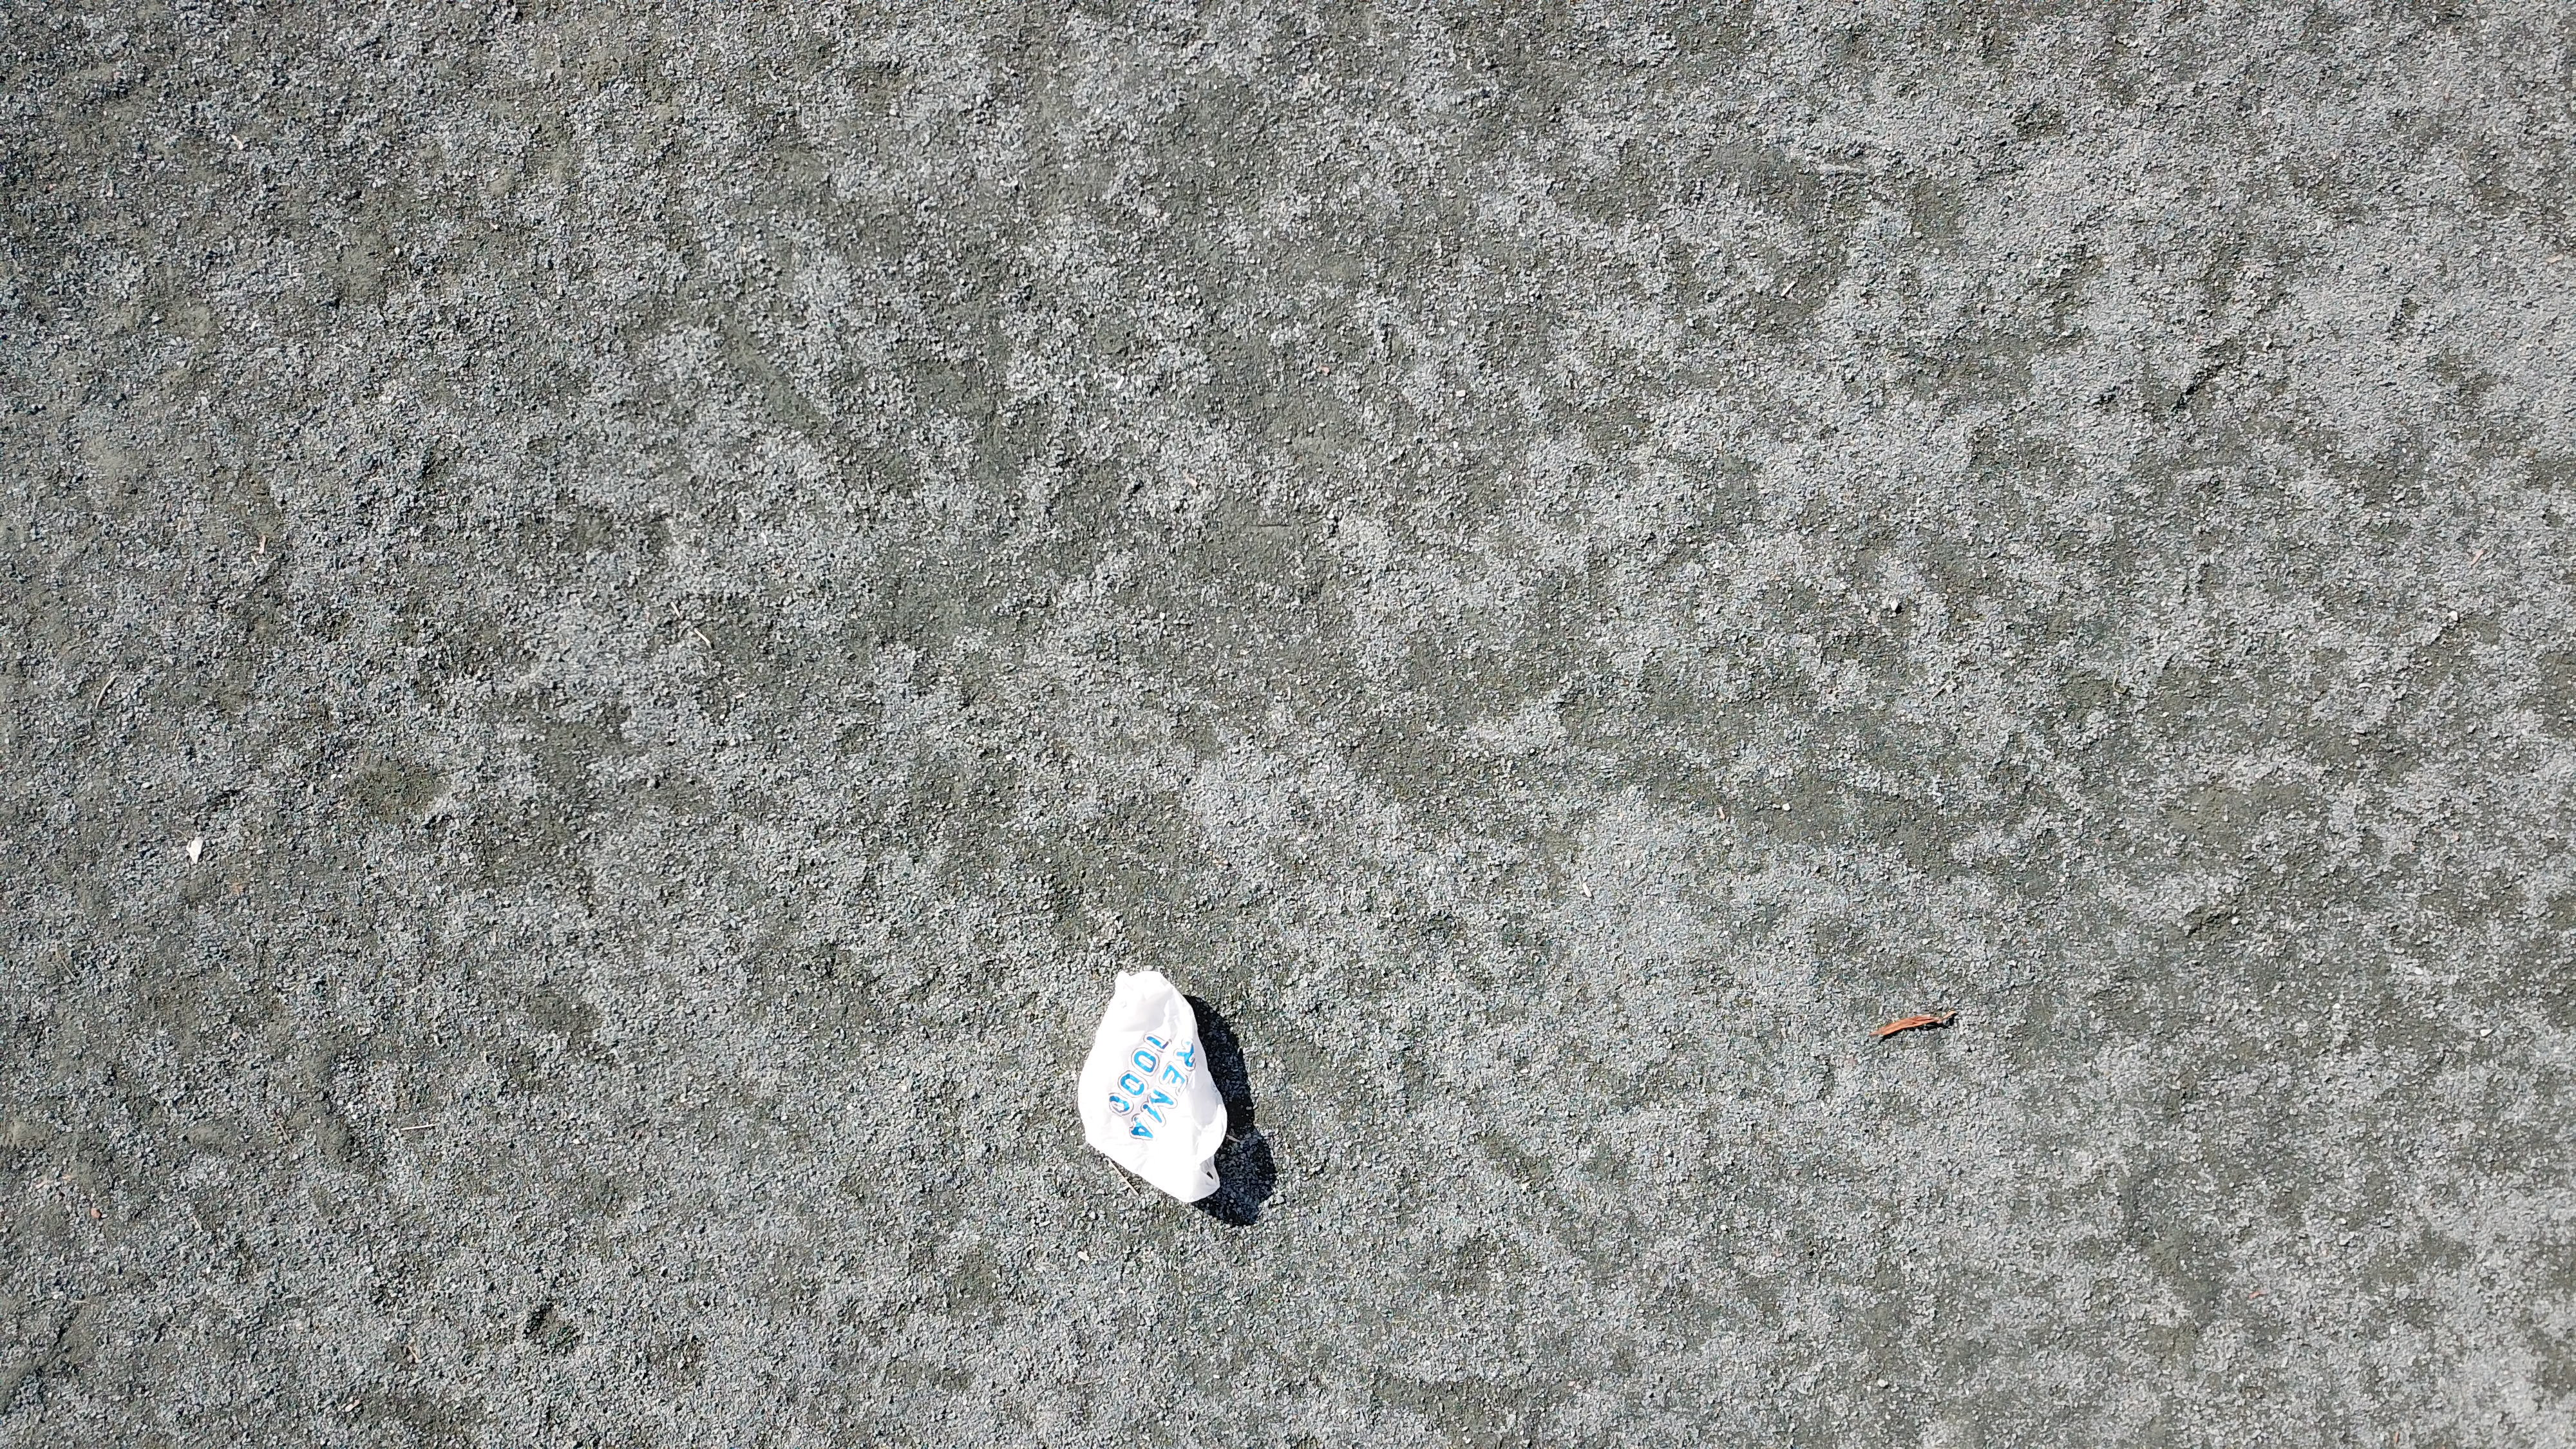Plastic: (1081, 966, 1231, 1203)
